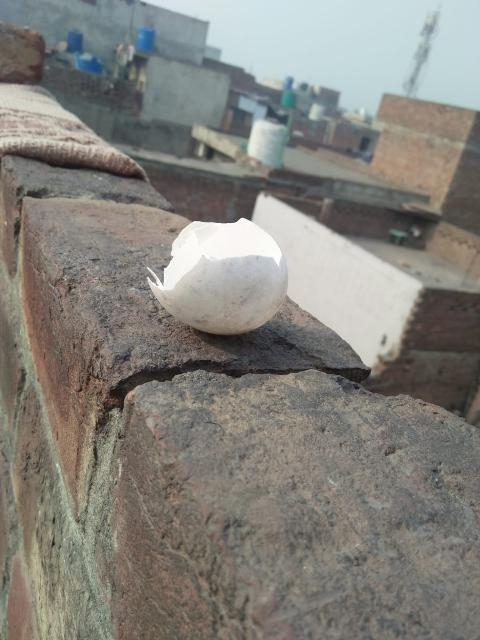Roto: (145, 216, 289, 336)
